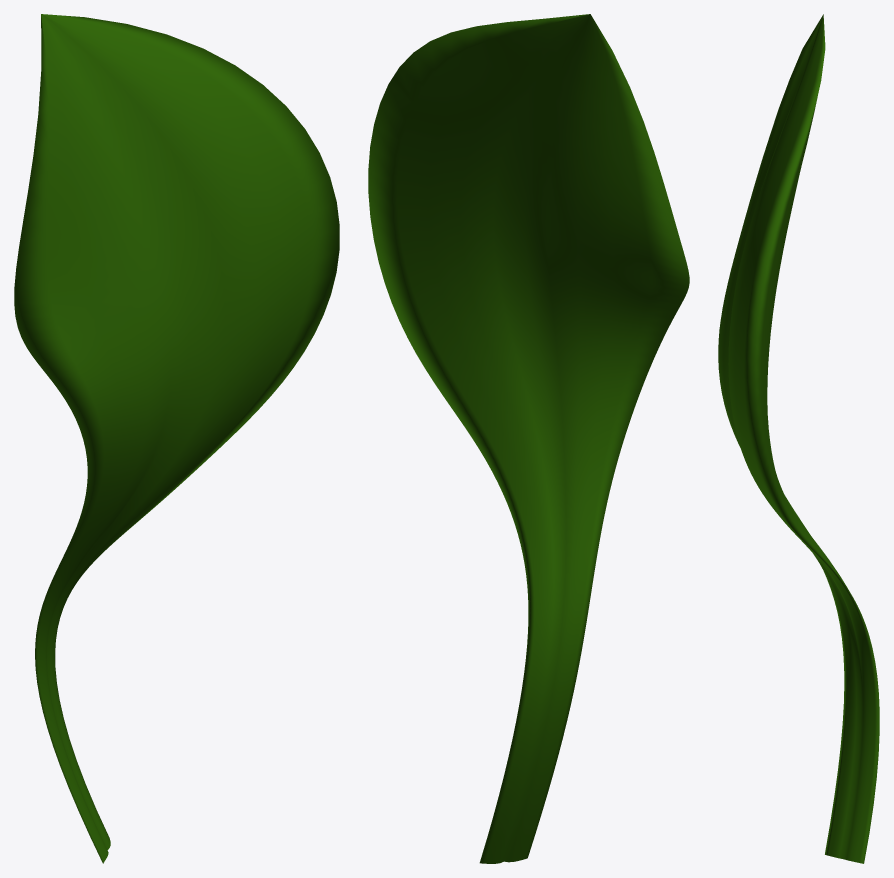
3 renders of one model, left to right at view 1: azimuth 30°, elevation 25°; view 2: azimuth 150°, elevation 25°; view 3: azimuth 270°, elevation 25°, orthographic. The views are drawn at different scales.
Visible parts, largest first — view 1: ТраекторияNurbs.010; view 2: ТраекторияNurbs.010; view 3: ТраекторияNurbs.010.
Part boxes in pixels (x1=…): ТраекторияNurbs.010: x1=14, y1=14, x2=339, y2=863; ТраекторияNurbs.010: x1=368, y1=14, x2=689, y2=863; ТраекторияNurbs.010: x1=718, y1=14, x2=879, y2=863.
Size of the model in its own units: 156 by 401 by 72.2.
